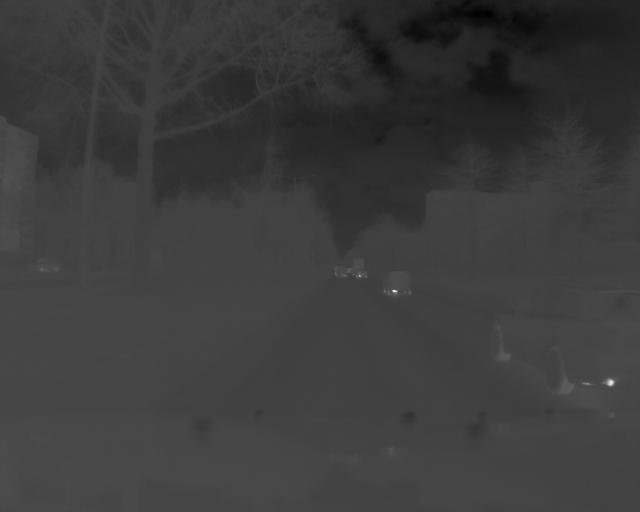car: (493, 282, 640, 401), (379, 268, 416, 301)
